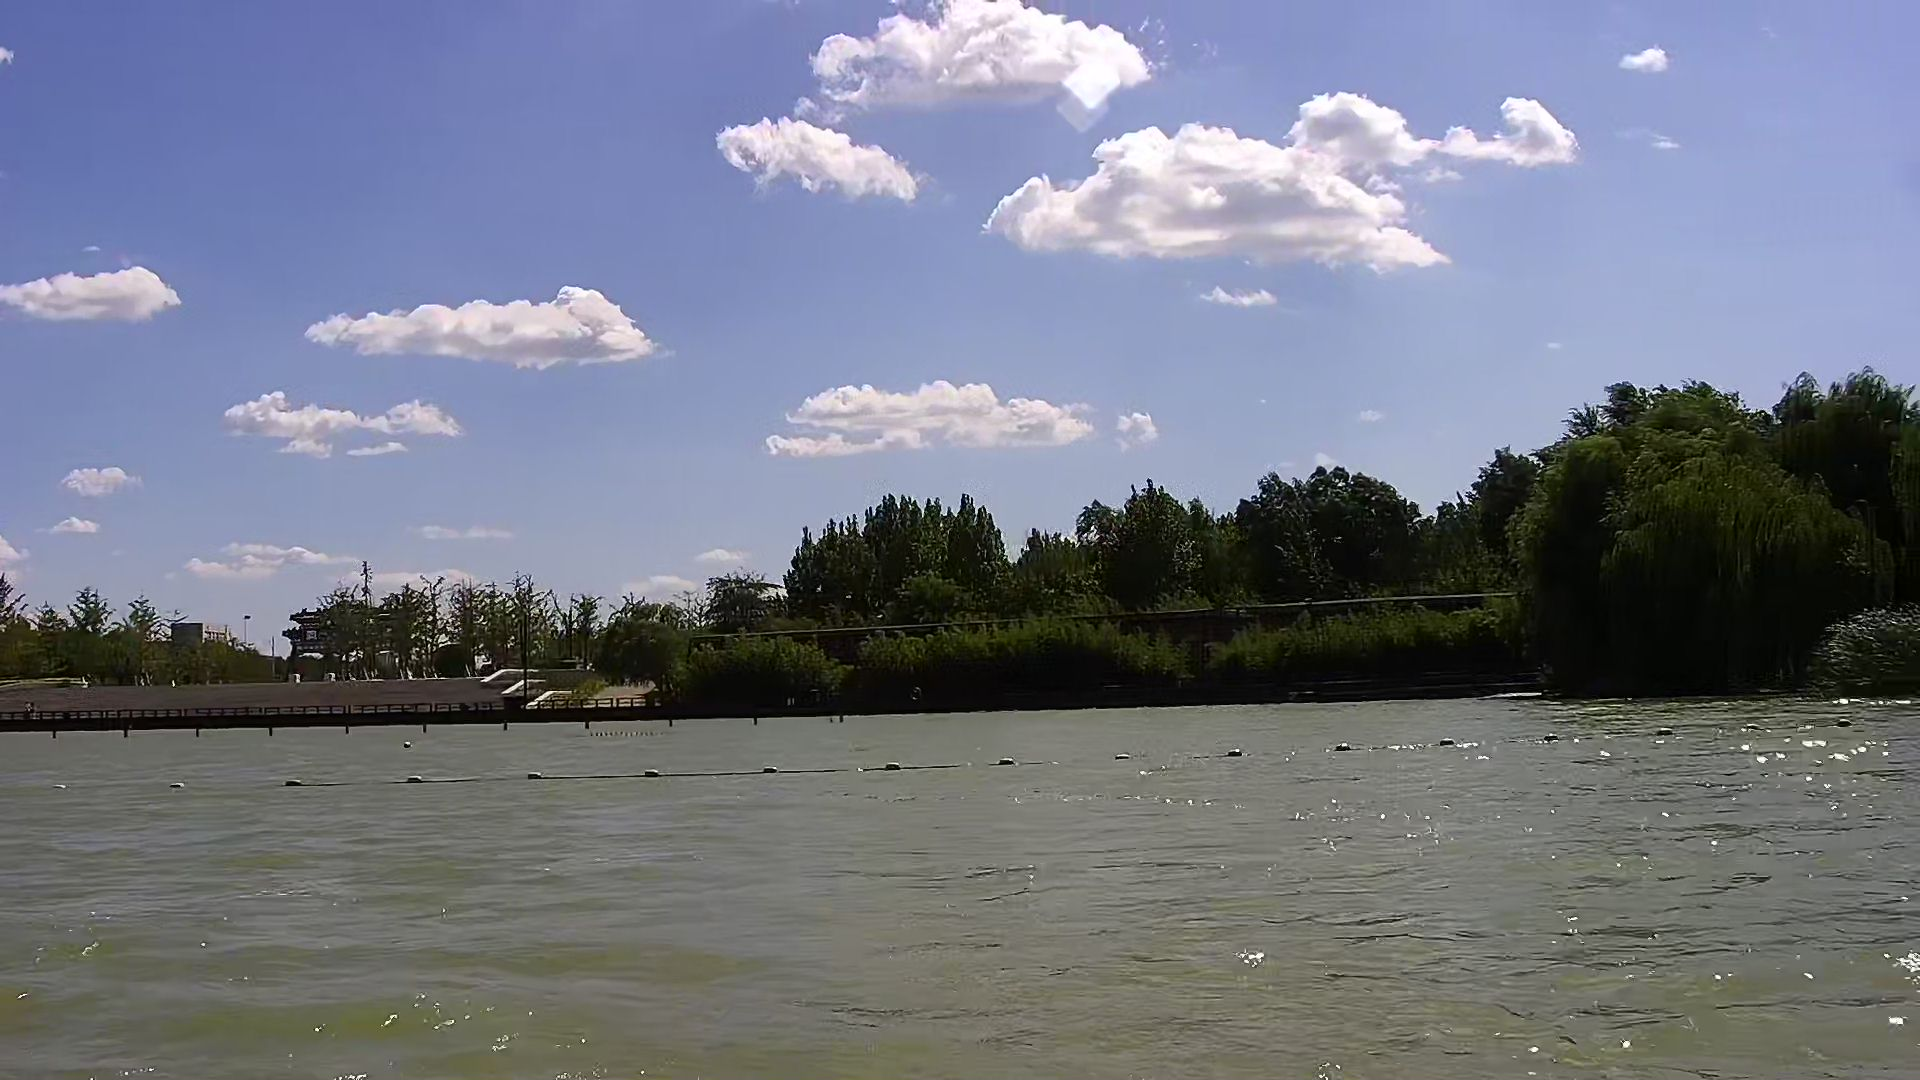ball: (874, 754, 911, 781), (1327, 732, 1364, 756), (276, 769, 309, 795), (1220, 738, 1251, 765), (396, 767, 427, 793), (1433, 731, 1470, 752), (753, 758, 781, 785), (994, 746, 1022, 771), (638, 758, 663, 786), (520, 760, 542, 786)
harbor: (1, 679, 647, 731)
